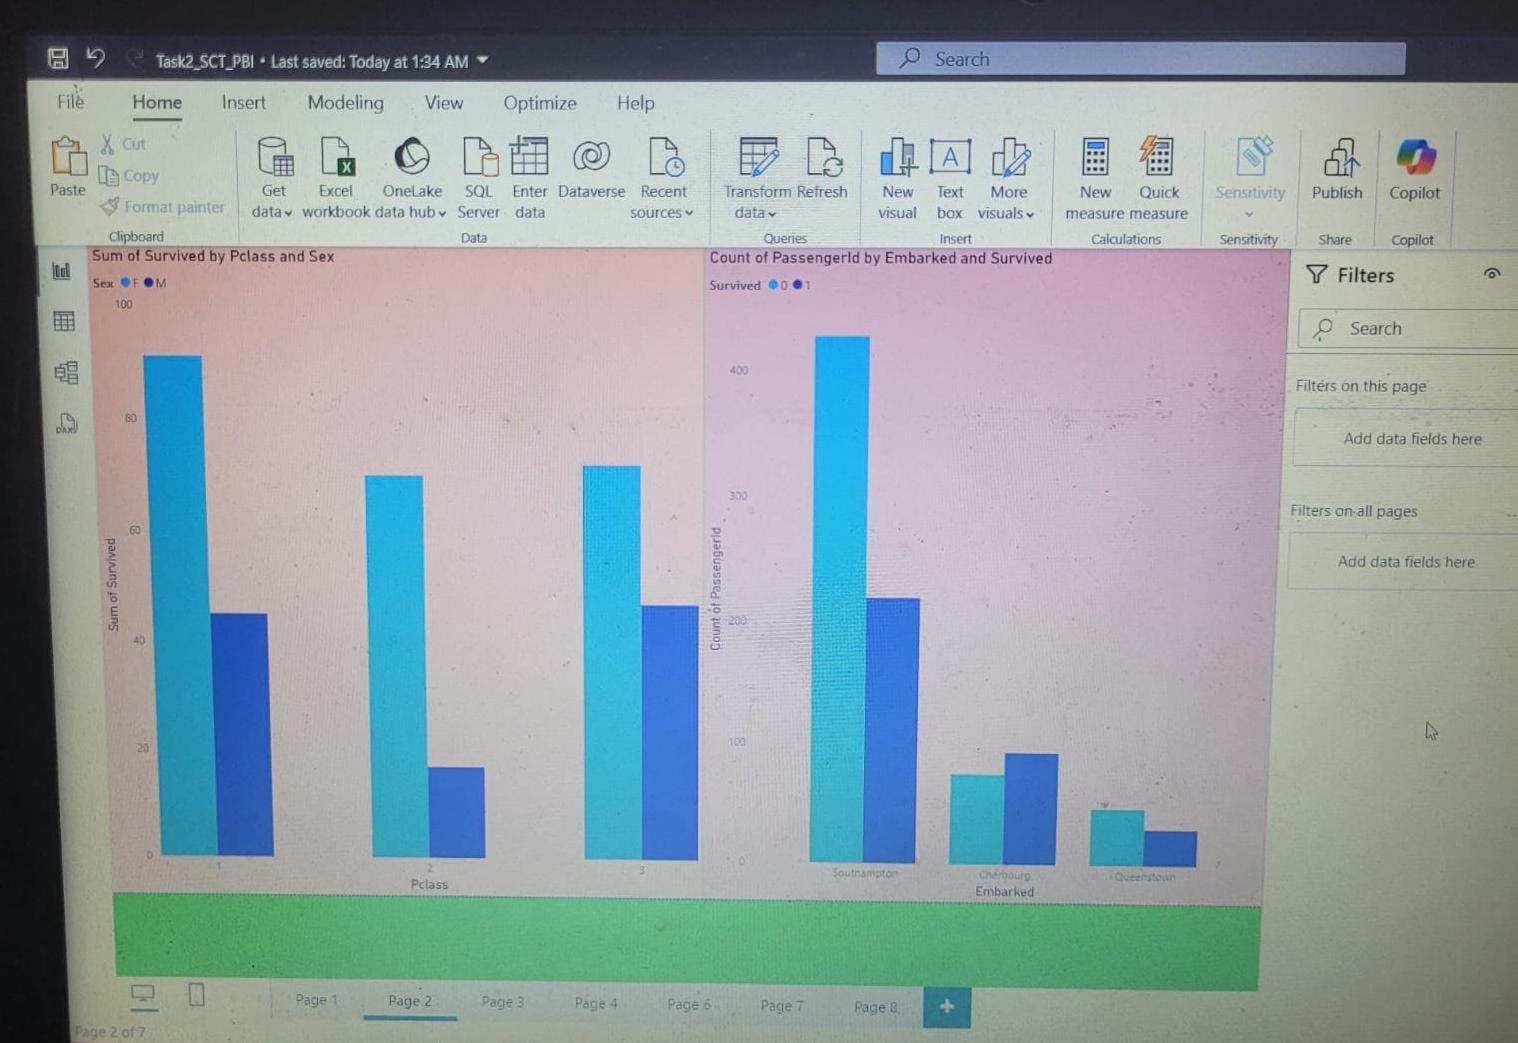

Layout of this report page (visuals, bound fields, positions):
{"tool":"powerbi","page":{"name":"Page 2","canvas":[1280,720],"ordinal":1},"visuals":[{"type":"clusteredColumnChart","fields":{"Category":["train.Pclass"],"Y":["Sum(train.Survived)"],"Series":["train.Sex"]},"box":[0,0,662.8,720.4],"z":0},{"type":"clusteredColumnChart","fields":{"Category":["train.Embarked"],"Y":["CountNonNull(train.PassengerId)"],"Series":["train.Survived"]},"box":[662.8,0,617.5,720.4],"z":1000}]}

Visuals, with their boxes on the page's 1280x720 design canvas (x1, y1, x2, y2). These are canvas units, not pixel positions in the 1518x1043 screenshot, which may show the page scaled, cropped or inside an application window:
clusteredColumnChart - train.Pclass x Sum(train.Survived): {"left": 0, "top": 0, "right": 663, "bottom": 720}
clusteredColumnChart - train.Embarked x CountNonNull(train.PassengerId): {"left": 663, "top": 0, "right": 1280, "bottom": 720}
